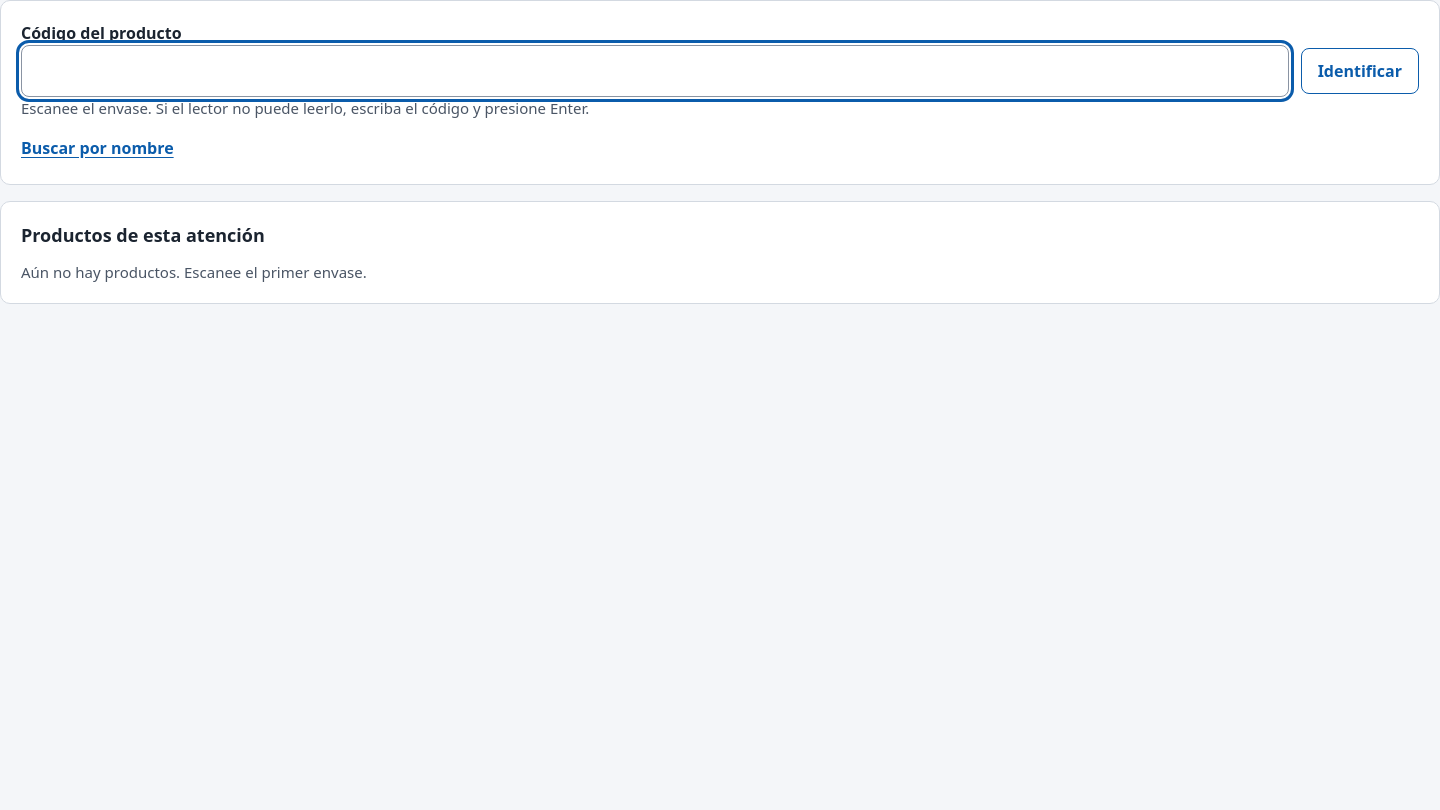
Test: PantallaMeson (HU-02) › un código fuera del catálogo ofrece la búsqueda manual sin perder lo ya capturado
Type keys "7802250012344{Enter}"
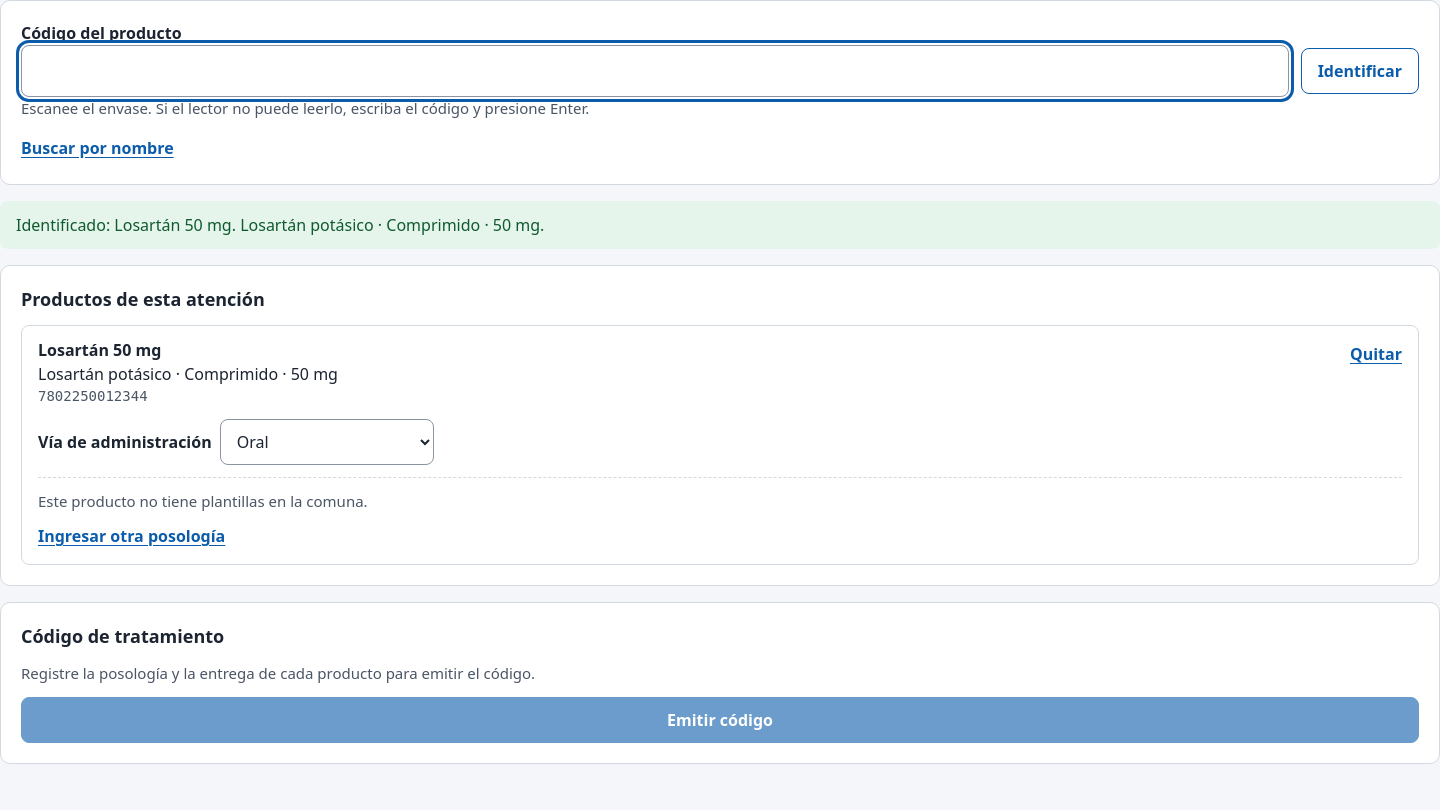
expect the text "Losartán 50 mg" is shown: met, box 38,338 -> 161,360
Type keys "7802250099901{Enter}"
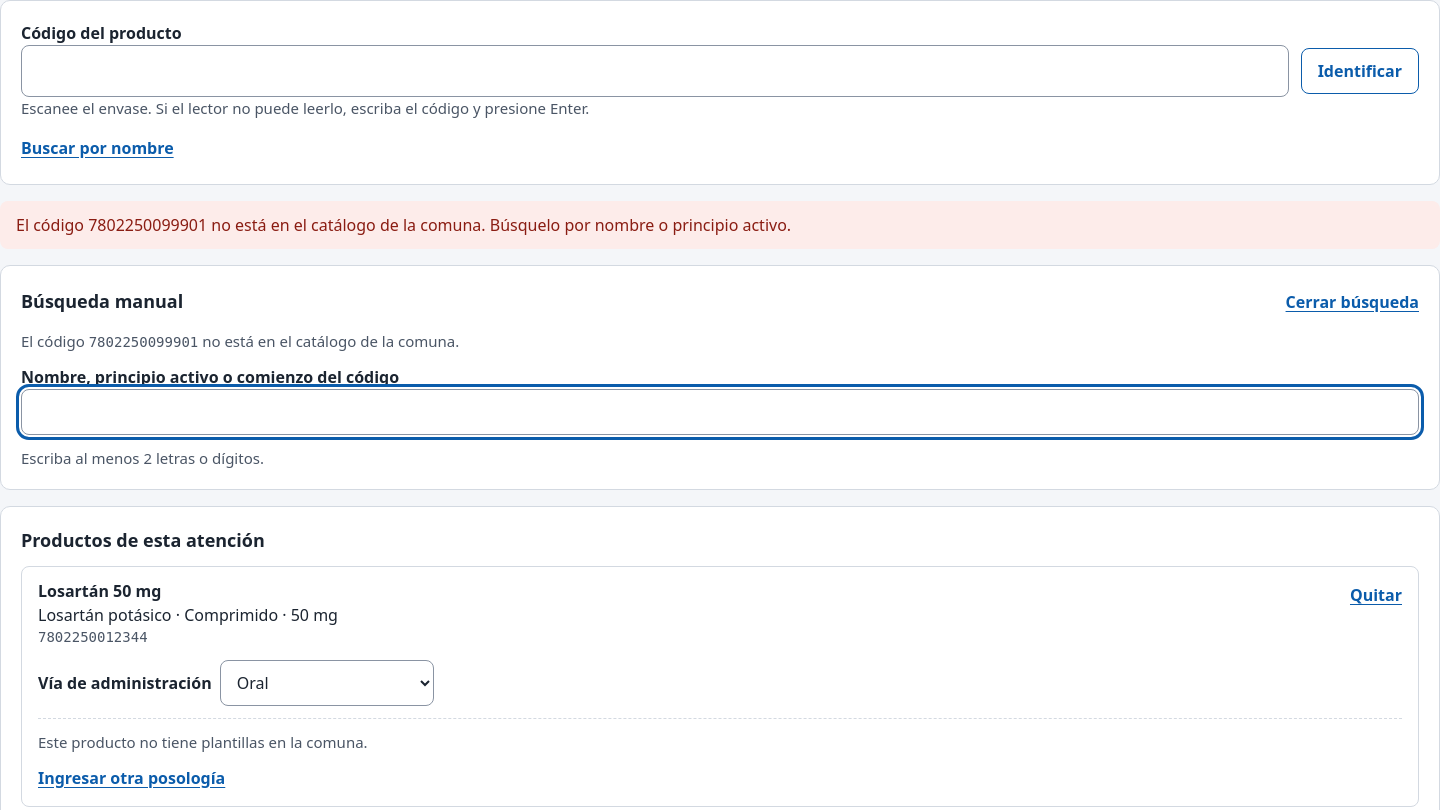
expect the text "Losartán 50 mg" is shown: met, box 38,580 -> 161,602
expect the text "7802250099901" is shown: met, box 89,334 -> 198,350
Type "metformina" into the search field at [720, 412], box 21,388 -> 1419,434
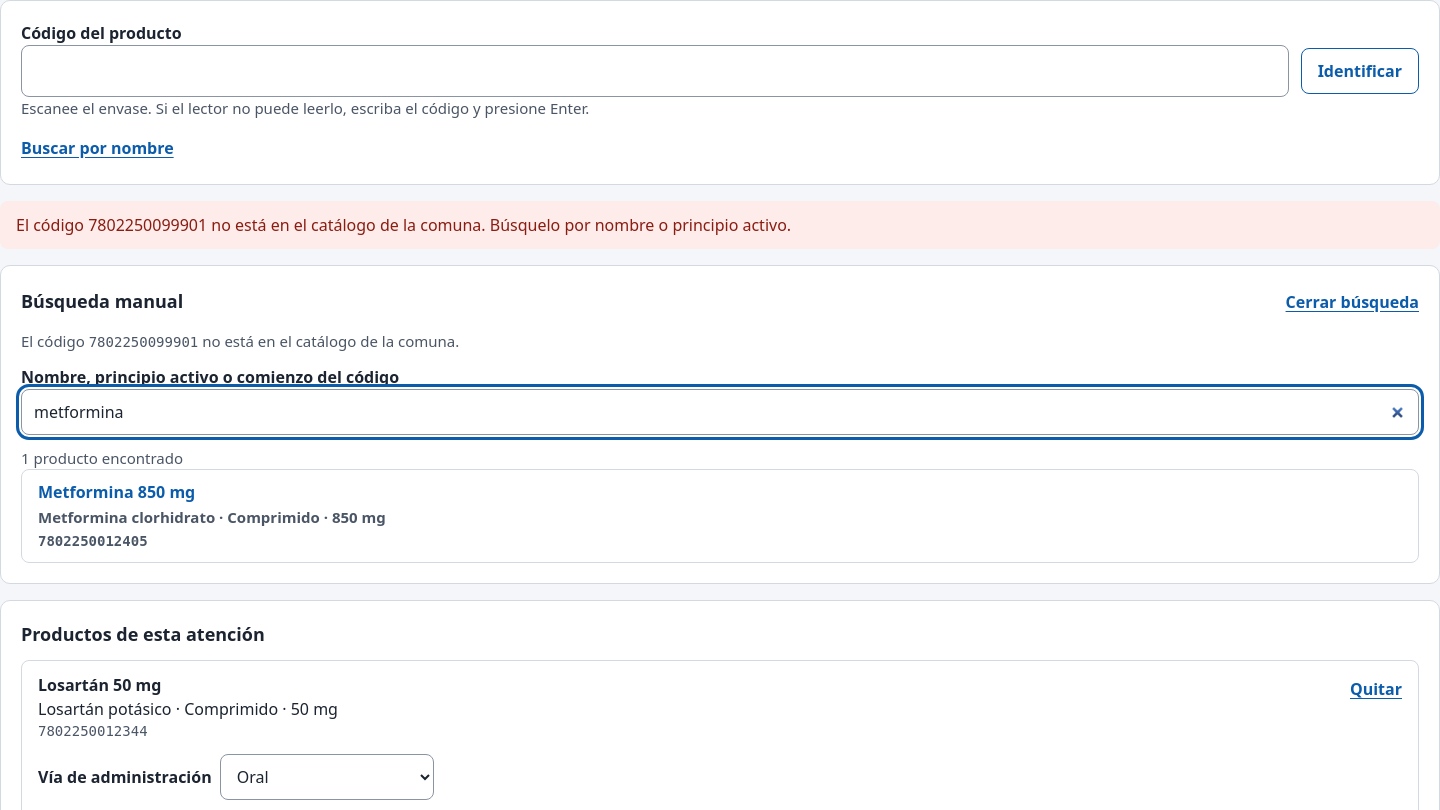
Click the button "Metformina 850 mg" at [117, 492], box 21,469 -> 1419,562
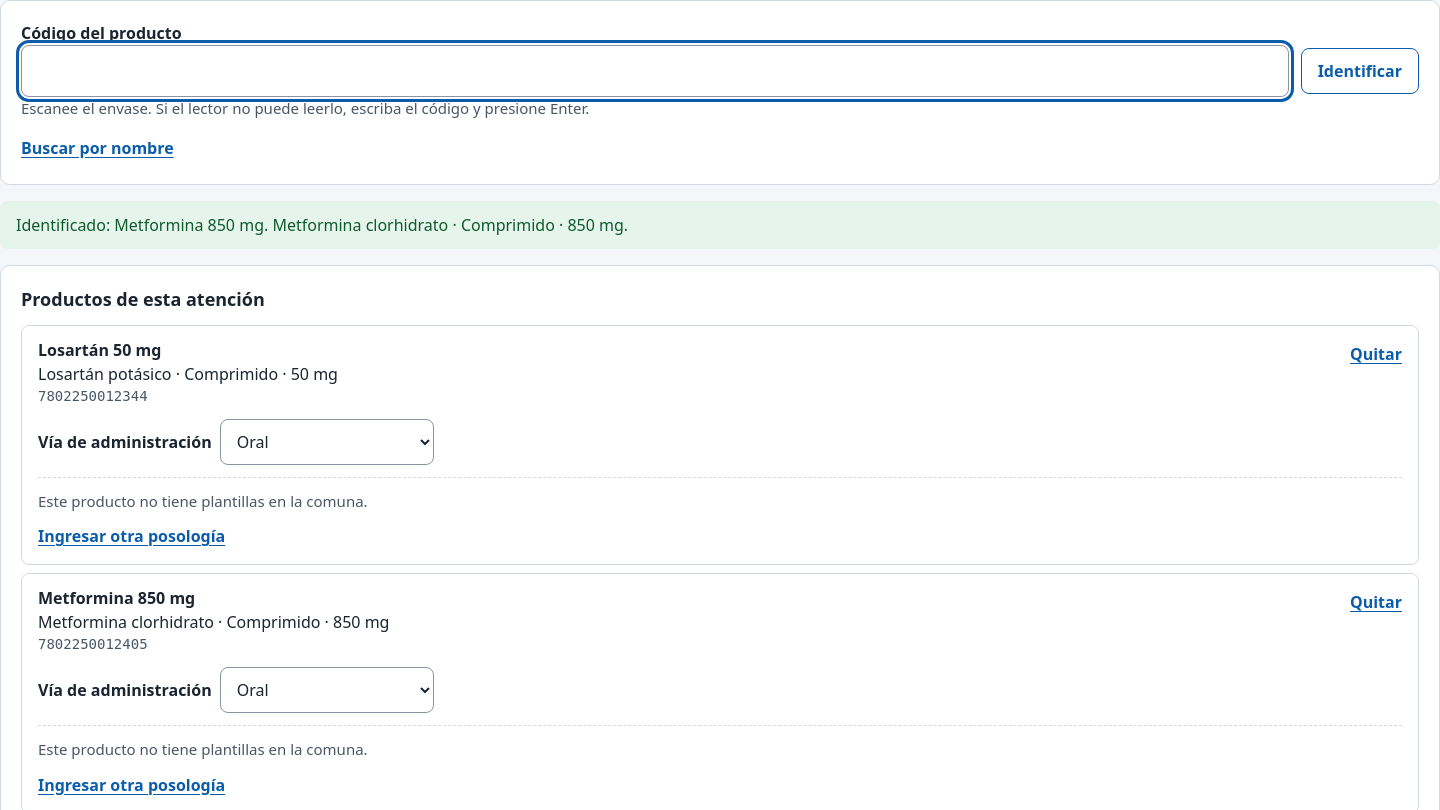
expect the text "Losartán 50 mg" is shown: met, box 38,338 -> 161,360
expect the text "Metformina 850 mg" is shown: met, box 38,587 -> 195,609
expect the heading "Búsqueda manual" is gone: met
